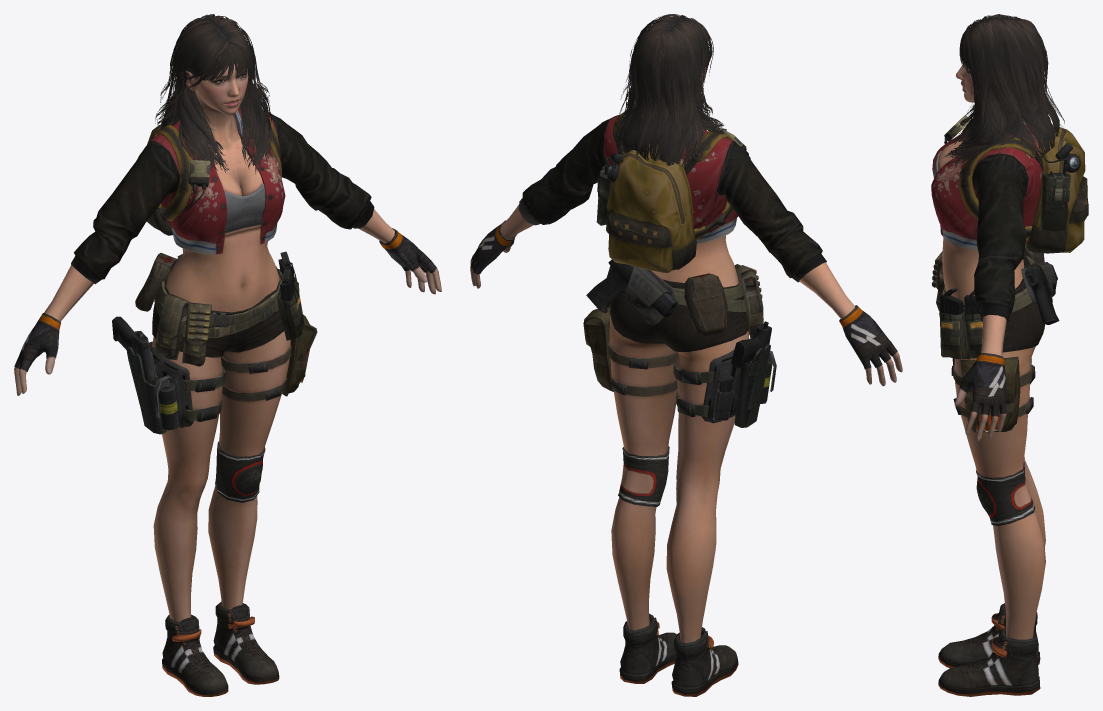
The model's file is prev.fbx.
3 renders of one model, left to right at view 1: azimuth 30°, elevation 25°; view 2: azimuth 150°, elevation 25°; view 3: azimuth 270°, elevation 25°, orthographic.
Visible parts, largest first — view 1: polySurface117, polySurface93, polySurface122, Model001_41_PCTPFemaleRed03Hair01Mat_0_4_0_0, Model001_41_PCTPFemaleRed03Hair00Mat_0_4_0_0, polySurface96, polySurface97, polySurface88, polySurface121, polySurface89, polySurface74, polySurface66 (+10 smaller); view 2: polySurface117, polySurface93, polySurface121, Model001_41_PCTPFemaleRed03Hair01Mat_0_4_0_0, Model001_41_PCTPFemaleRed03Hair00Mat_0_4_0_0, polySurface88, polySurface96, polySurface97, polySurface89, polySurface73, polySurface122, polySurface103 (+8 smaller); view 3: polySurface93, polySurface117, Model001_41_PCTPFemaleRed03Hair01Mat_0_4_0_0, polySurface121, Model001_41_PCTPFemaleRed03Hair00Mat_0_4_0_0, polySurface97, polySurface122, polySurface89, polySurface111, polySurface96, polySurface88, polySurface59 (+7 smaller).
Part boxes in pixels (<box>): polySurface117: <box>14,209,441,622</box>; polySurface93: <box>71,107,374,284</box>; polySurface122: <box>166,56,279,312</box>; Model001_41_PCTPFemaleRed03Hair01Mat_0_4_0_0: <box>155,14,276,174</box>; Model001_41_PCTPFemaleRed03Hair00Mat_0_4_0_0: <box>160,17,269,164</box>; polySurface96: <box>162,614,228,696</box>; polySurface97: <box>213,602,279,684</box>; polySurface88: <box>152,268,284,357</box>; polySurface121: <box>147,106,281,235</box>; polySurface89: <box>215,441,265,502</box>; polySurface74: <box>154,267,283,338</box>; polySurface66: <box>154,294,189,359</box>; polySurface117: <box>470,205,902,643</box>; polySurface93: <box>518,115,826,282</box>; polySurface121: <box>596,111,733,272</box>; Model001_41_PCTPFemaleRed03Hair01Mat_0_4_0_0: <box>618,14,724,162</box>; Model001_41_PCTPFemaleRed03Hair00Mat_0_4_0_0: <box>615,16,726,168</box>; polySurface88: <box>610,279,748,351</box>; polySurface96: <box>671,627,738,696</box>; polySurface97: <box>619,613,676,683</box>; polySurface89: <box>618,446,669,506</box>; polySurface73: <box>684,273,727,335</box>; polySurface122: <box>651,67,738,287</box>; polySurface103: <box>839,305,897,369</box>; polySurface93: <box>931,121,1042,323</box>; polySurface117: <box>954,315,1045,639</box>; Model001_41_PCTPFemaleRed03Hair01Mat_0_4_0_0: <box>943,14,1064,167</box>; polySurface121: <box>958,124,1088,253</box>; Model001_41_PCTPFemaleRed03Hair00Mat_0_4_0_0: <box>957,15,1059,158</box>; polySurface97: <box>938,628,1040,696</box>; polySurface122: <box>933,62,1024,304</box>; polySurface89: <box>976,462,1034,526</box>; polySurface111: <box>959,353,1006,416</box>; polySurface96: <box>938,603,1040,668</box>; polySurface88: <box>944,254,1044,352</box>; polySurface59: <box>960,356,1020,432</box>.
Bounding box in the file's own units: 14.13 × 20.97 × 4.53.
12 materials, 12 textured.
